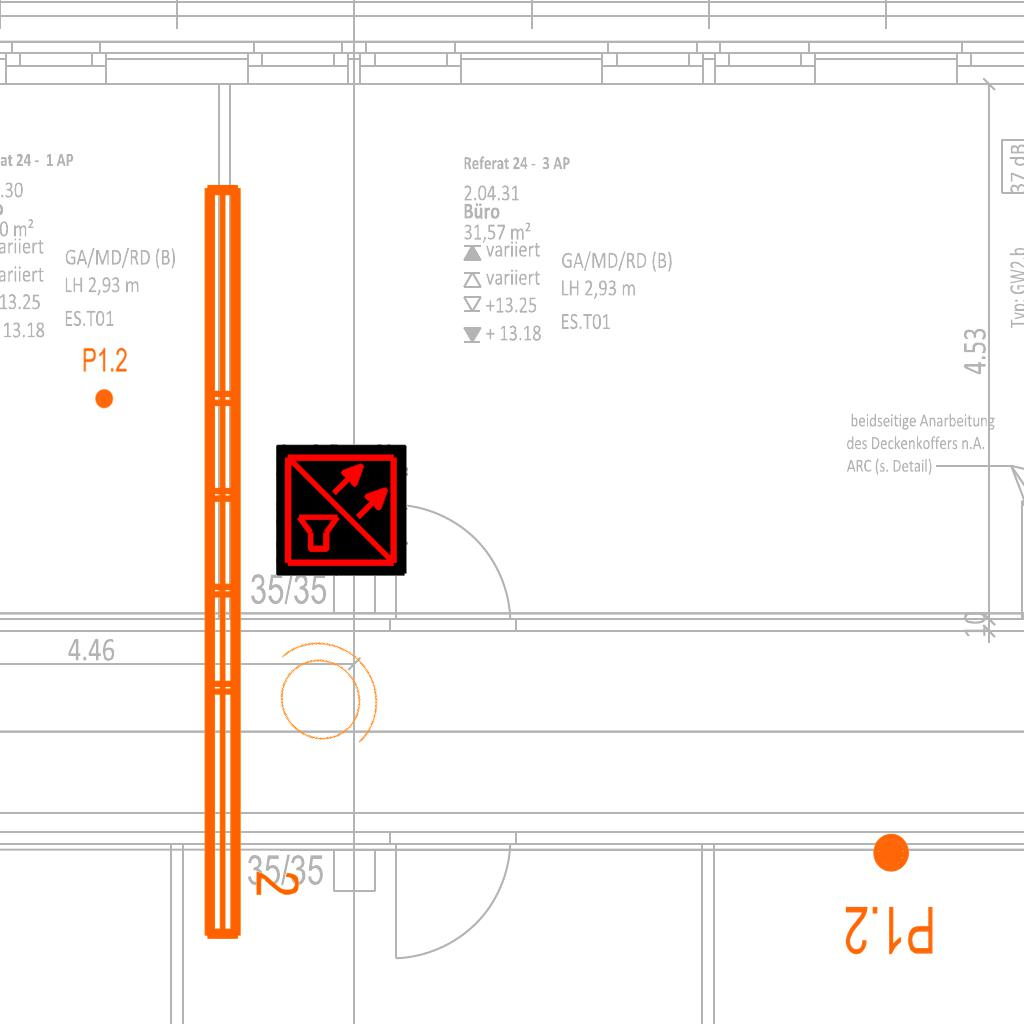Ambulanz_Pendelleuchte_LED: (192, 174, 304, 948)
Downlight_LED_Einbauleuchten_Flur: (843, 830, 936, 958), (82, 346, 128, 410)
OKW_Multisensormelder_(Kombination_optischer_Rauch-Kahlenmonoxid_Waerme-Melder): (276, 444, 408, 576)
Scheinwerfer_fuer_Alarmbeleuchtung: (236, 607, 408, 781)
